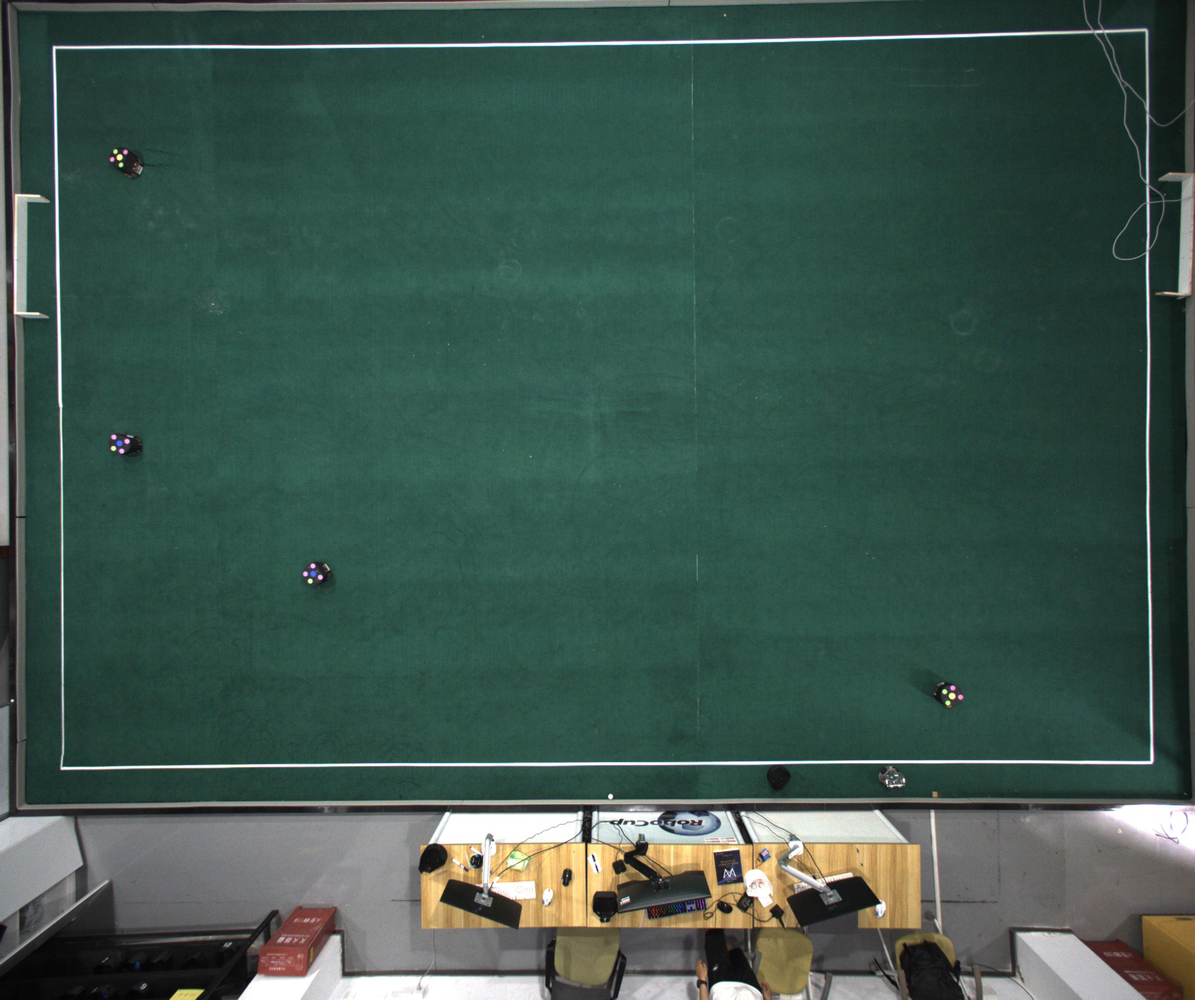blue_bot: (302, 562, 324, 586), (109, 434, 131, 455)
yellow_bot: (941, 684, 964, 706), (109, 147, 129, 169)
